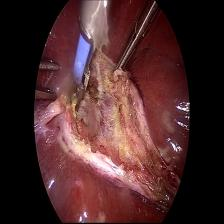Bipolar: (68, 30, 96, 111)
Grasper: (114, 13, 153, 85), (36, 56, 60, 107)
